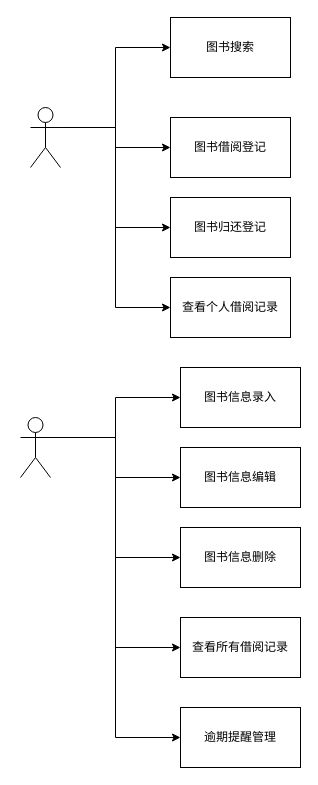
This 318x785 diagram has some shape labels left out. Here are the shapes that lost their labels. From the top down, the box of each, then its label:
(30, 106, 60, 168): 用户
(20, 416, 50, 478): 管理员
